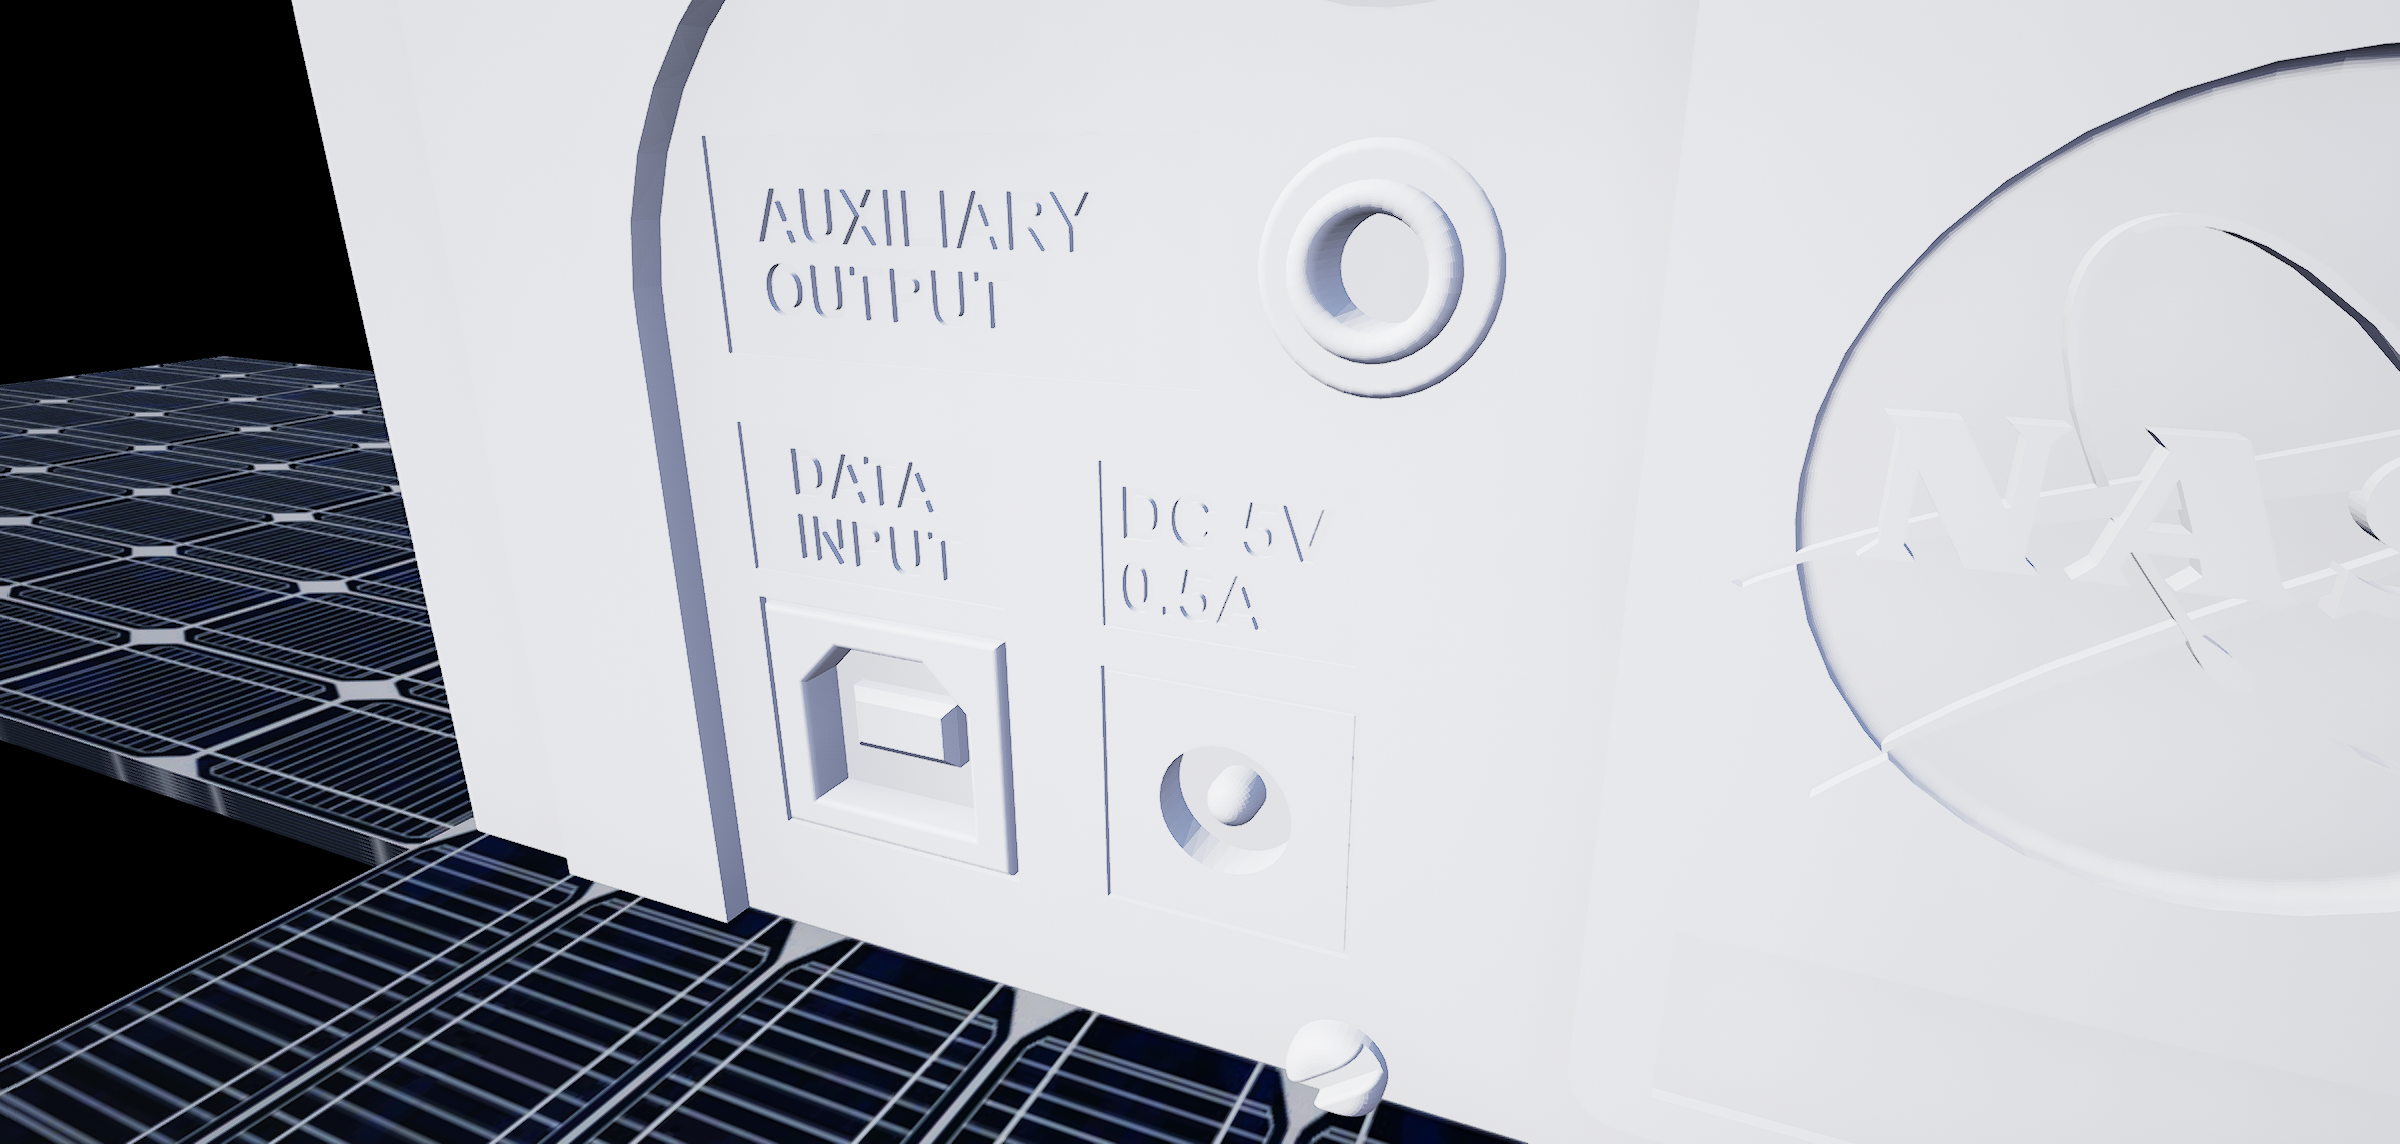aux: (1228, 123, 1538, 449)
dc: (1140, 731, 1315, 890)
usb: (787, 632, 1012, 873)
